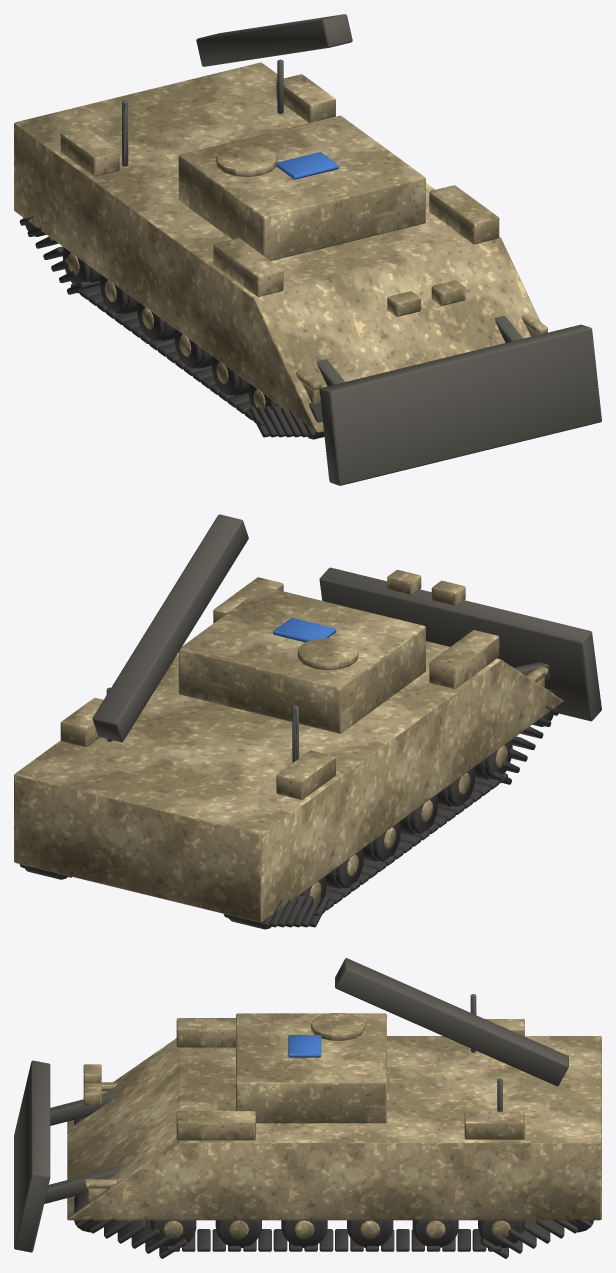
File: eng_e4_us_engineer_LOD0.glb
3 renders of one model, top to bottom at view 1: azimuth 30°, elevation 25°; view 2: azimuth 150°, elevation 25°; view 3: azimuth 270°, elevation 25°, orthographic. The views are drawn at different scales.
Parts seen in each view (by area): view 1: eng_e4_us_engineer_LOD0_body, eng_e4_us_engineer_LOD0_deck, eng_e4_us_engineer_LOD0_track, eng_e4_us_engineer_LOD0_team, eng_e4_us_engineer_LOD0_gun; view 2: eng_e4_us_engineer_LOD0_body, eng_e4_us_engineer_LOD0_deck, eng_e4_us_engineer_LOD0_track, eng_e4_us_engineer_LOD0_team; view 3: eng_e4_us_engineer_LOD0_body, eng_e4_us_engineer_LOD0_deck, eng_e4_us_engineer_LOD0_track, eng_e4_us_engineer_LOD0_team.
Part boxes in pixels (x1=…): eng_e4_us_engineer_LOD0_body: x1=14, y1=62, x2=547, y2=432; eng_e4_us_engineer_LOD0_deck: x1=196, y1=14, x2=601, y2=485; eng_e4_us_engineer_LOD0_track: x1=19, y1=215, x2=324, y2=439; eng_e4_us_engineer_LOD0_team: x1=276, y1=152, x2=339, y2=179; eng_e4_us_engineer_LOD0_gun: x1=122, y1=59, x2=283, y2=166; eng_e4_us_engineer_LOD0_body: x1=14, y1=570, x2=563, y2=922; eng_e4_us_engineer_LOD0_deck: x1=92, y1=514, x2=601, y2=742; eng_e4_us_engineer_LOD0_track: x1=19, y1=688, x2=558, y2=929; eng_e4_us_engineer_LOD0_team: x1=273, y1=618, x2=336, y2=642; eng_e4_us_engineer_LOD0_body: x1=67, y1=1013, x2=601, y2=1238; eng_e4_us_engineer_LOD0_deck: x1=14, y1=958, x2=568, y2=1252; eng_e4_us_engineer_LOD0_track: x1=74, y1=1116, x2=593, y2=1258; eng_e4_us_engineer_LOD0_team: x1=288, y1=1035, x2=321, y2=1057.
Size of the model in its own units: 3.55 by 3.88 by 7.79.
Materials: 5 (1 with a texture image).
